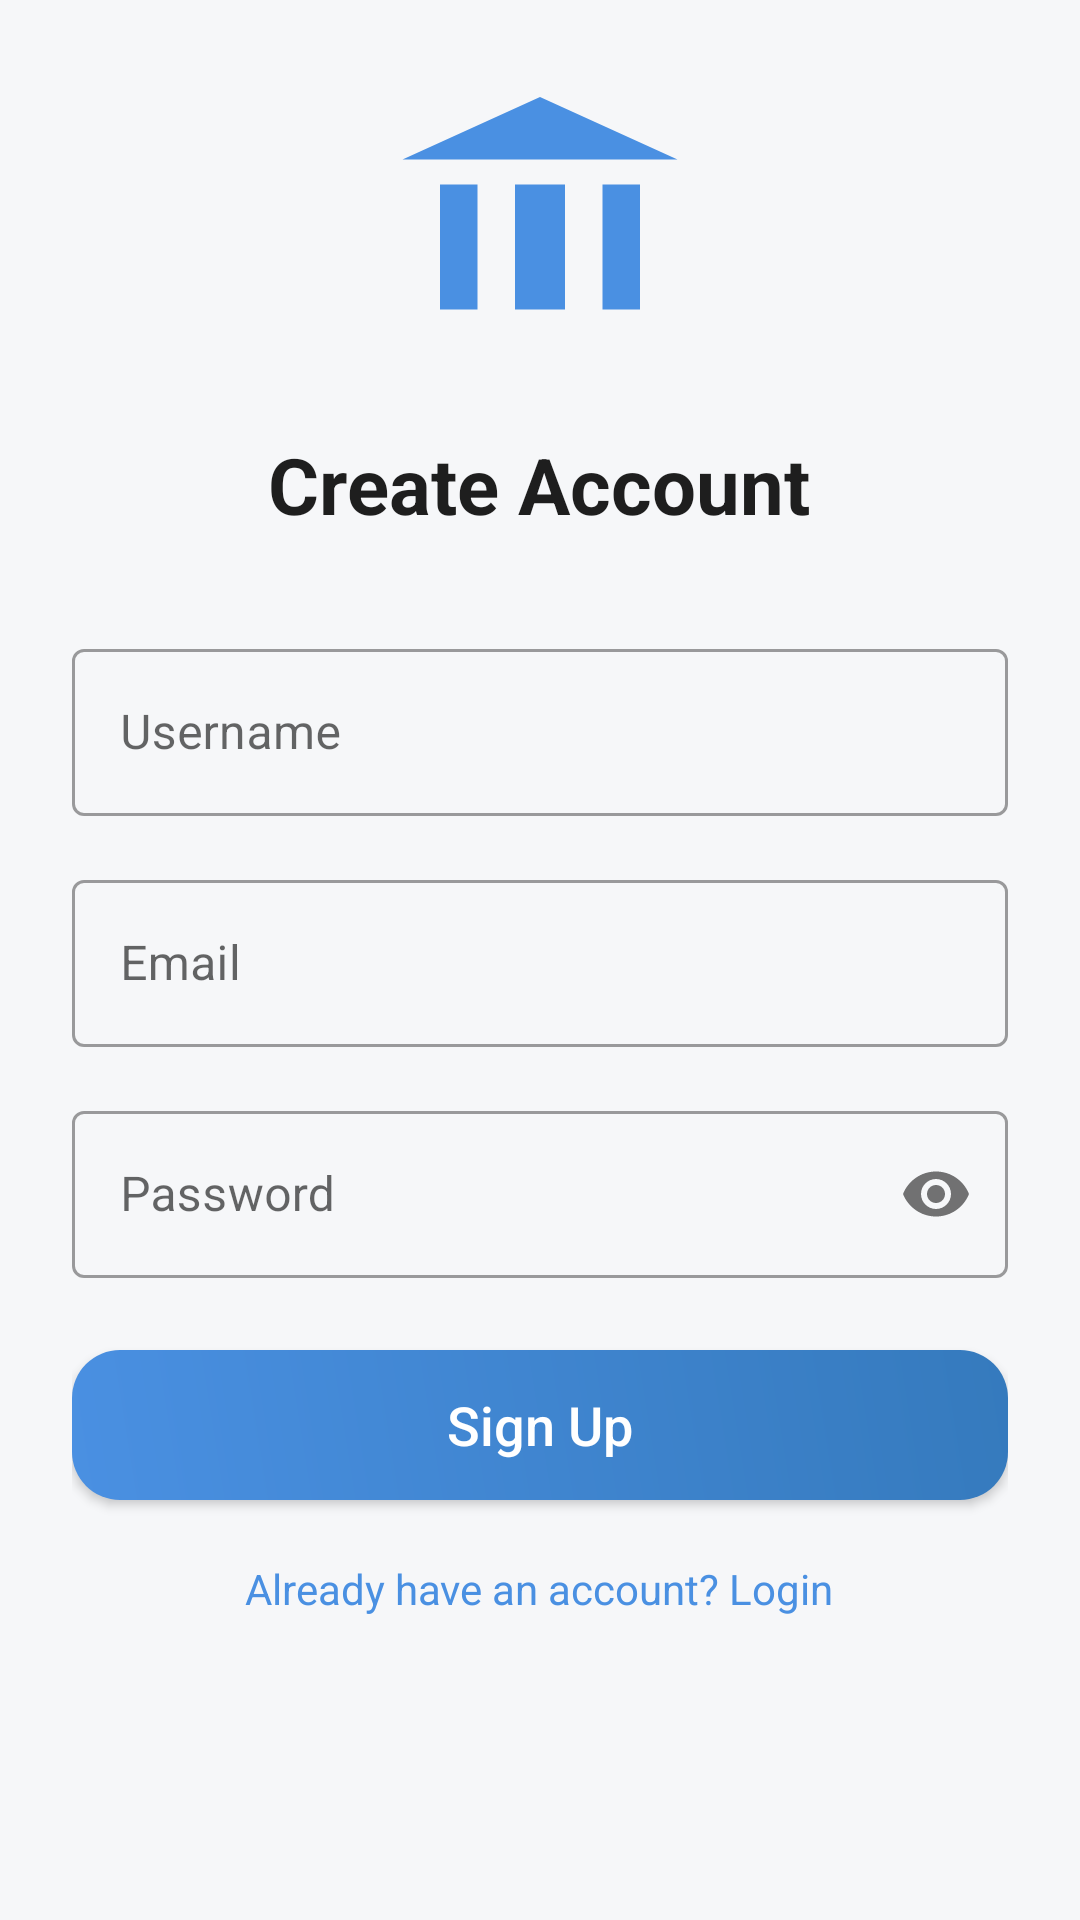

Where icons sit on this 1080 x 1920 app screen, as bbox=[x1, y1, x2, y2]:
bank: bbox=[403, 97, 677, 310]
